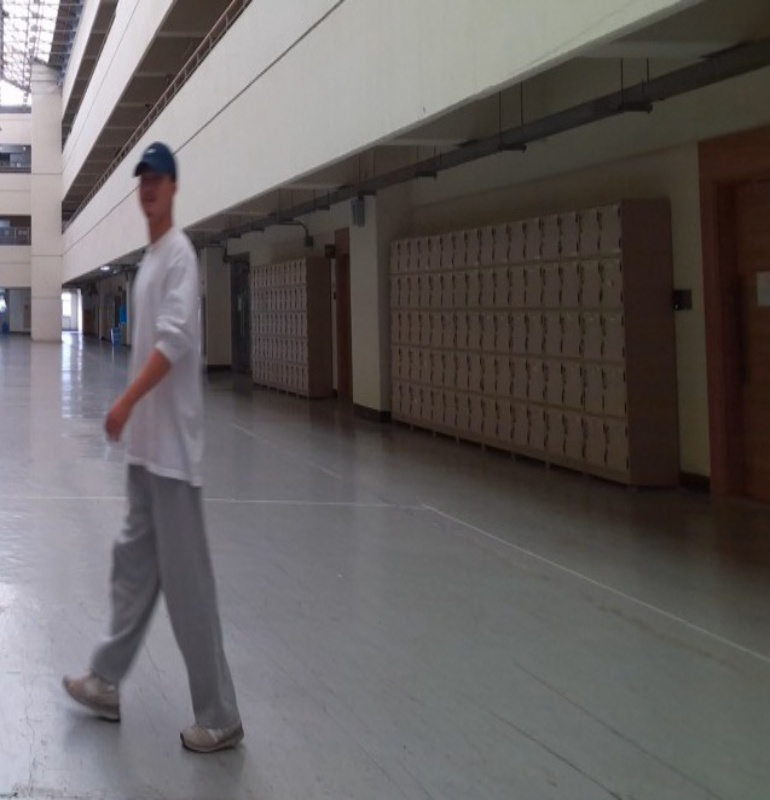person: (59, 141, 247, 753)
